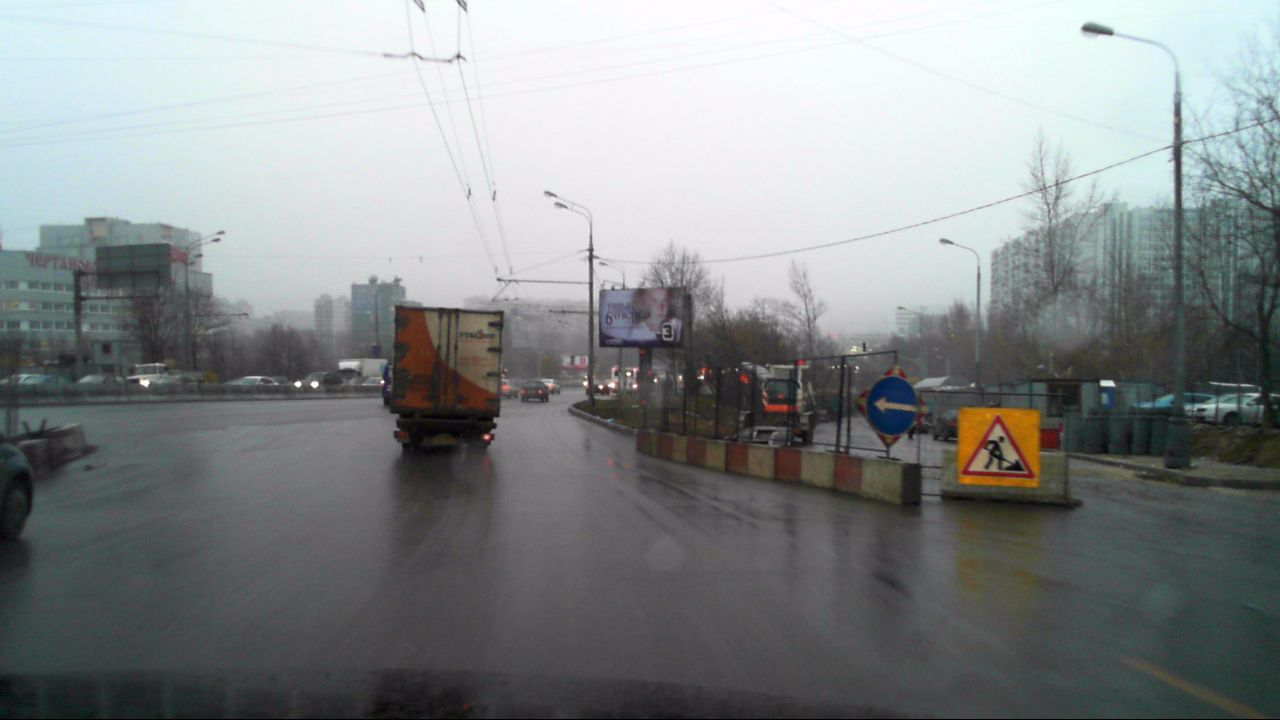Turn Left: (868, 376, 917, 434)
